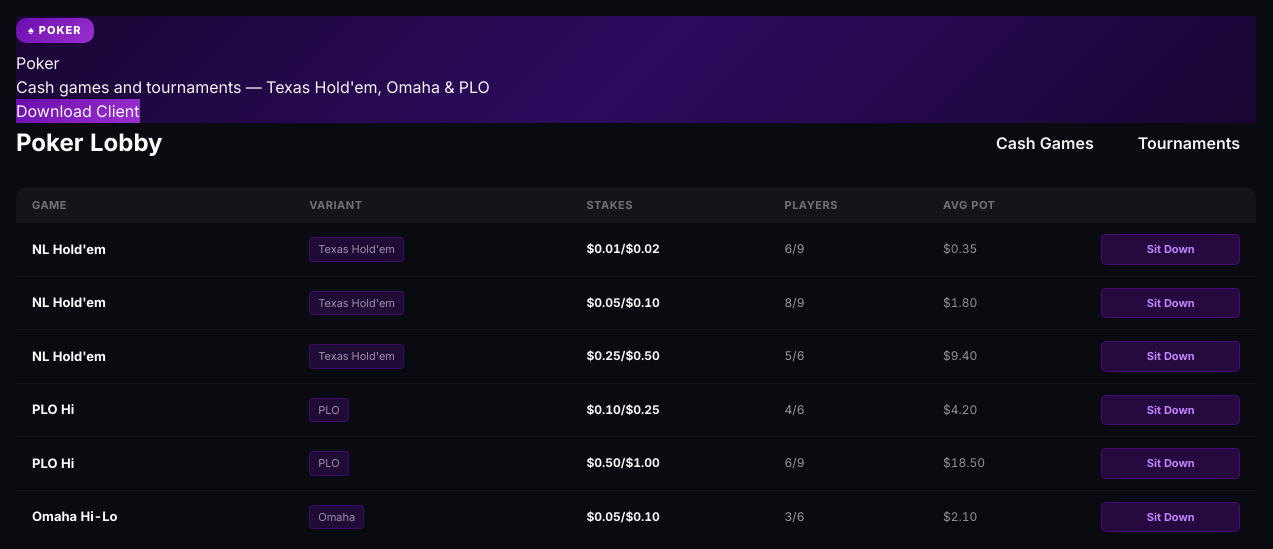
Poker Component › Toast Messages › shows toast when clicking sit down button
This screenshot has width=1273, height=549.
Click the button "Sit Down" next to "$0.35": (1171, 249) [1101, 234, 1240, 264]
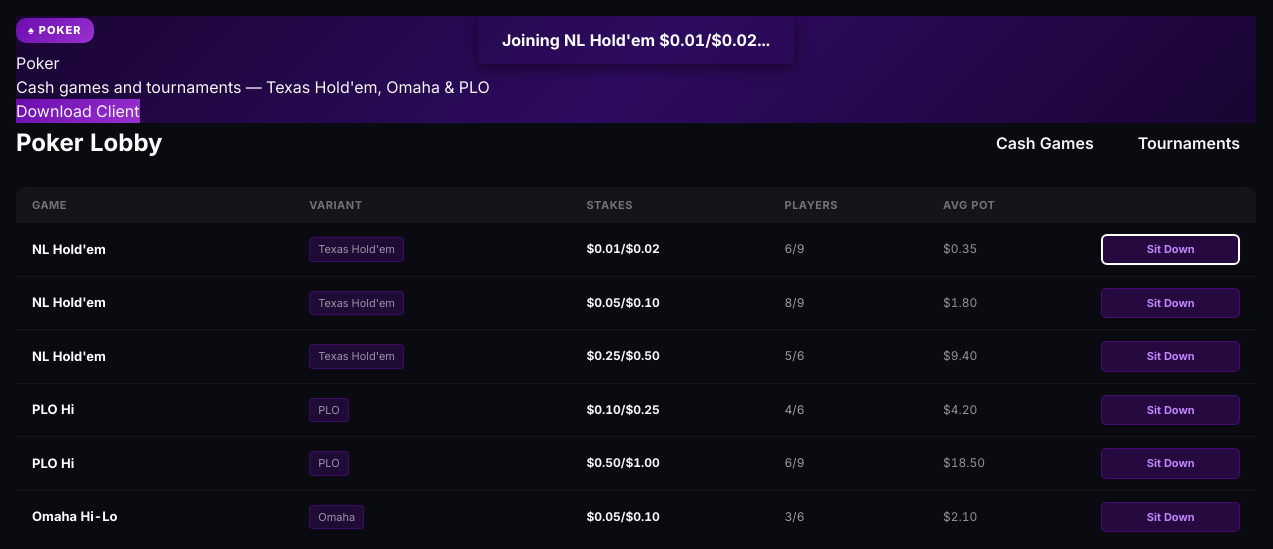
Expected: the text "Joining NL Hold'em $0.01/$0.02..." is shown, [478, 16, 794, 64]
